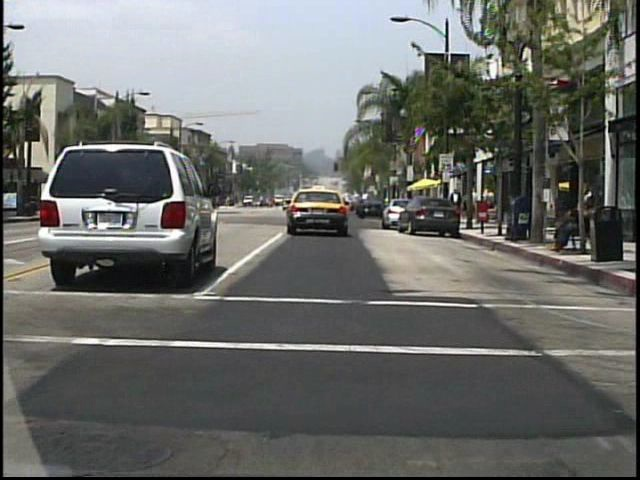person: (548, 201, 588, 257), (574, 176, 590, 237), (470, 181, 484, 220), (449, 183, 462, 220), (480, 186, 493, 220)
